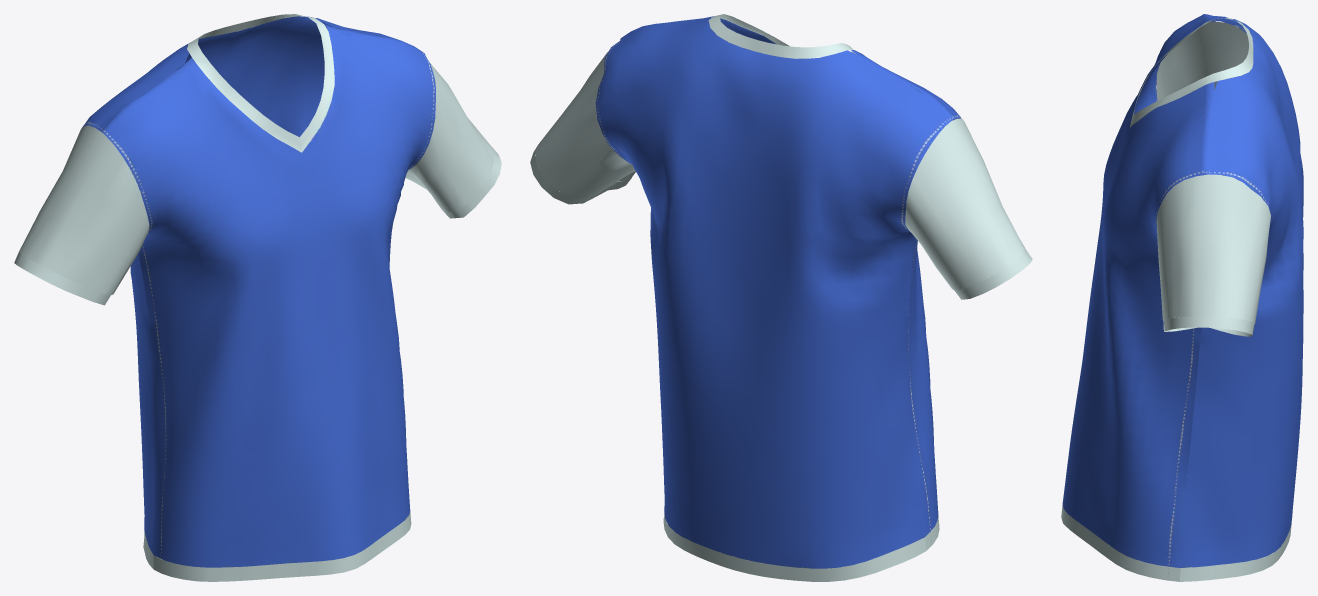
Rendered from tshirt-v1.glb.
3 renders of one model, left to right at view 1: azimuth 30°, elevation 25°; view 2: azimuth 150°, elevation 25°; view 3: azimuth 270°, elevation 25°, orthographic. The views are drawn at different scales.
Visible parts, largest first — view 1: 0RetopoMain.004; view 2: 0RetopoMain.004; view 3: 0RetopoMain.004.
Part boxes in pixels (x1=…): 0RetopoMain.004: x1=14, y1=14, x2=501, y2=581; 0RetopoMain.004: x1=530, y1=14, x2=1032, y2=581; 0RetopoMain.004: x1=1061, y1=14, x2=1303, y2=581.
Bounding box in the file's own units: 0.7434 × 0.7522 × 0.3384.
1 material, 1 textured.
